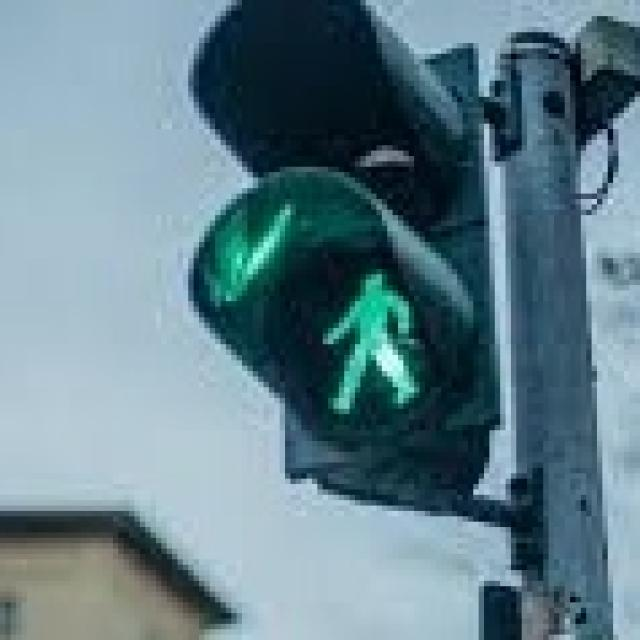green_light: (301, 247, 425, 425)
